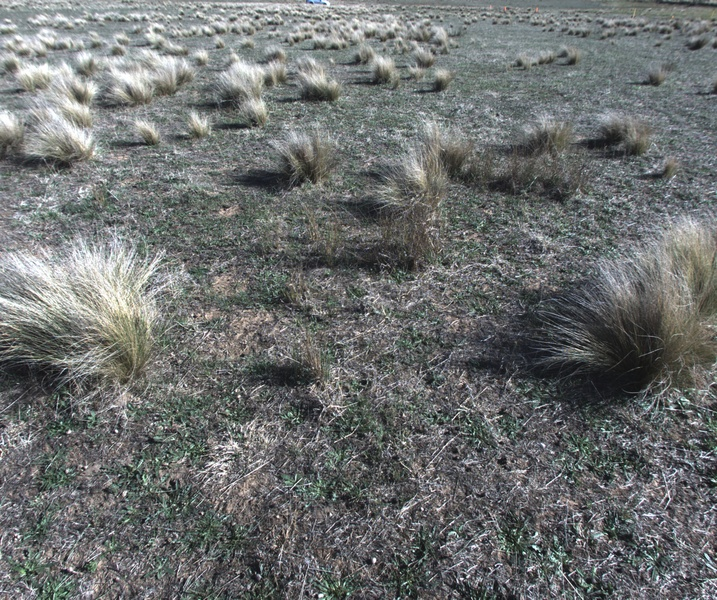st: (1, 238, 177, 373), (584, 227, 717, 374), (28, 116, 91, 164), (385, 157, 444, 208), (275, 136, 327, 188), (595, 114, 645, 159), (112, 67, 156, 104), (222, 56, 262, 96), (14, 65, 54, 96), (297, 76, 342, 101), (156, 57, 187, 90), (368, 57, 398, 88), (242, 99, 273, 129), (179, 107, 210, 135), (134, 121, 162, 149), (659, 161, 678, 195), (431, 64, 454, 91), (63, 102, 90, 123), (74, 49, 92, 79), (414, 46, 436, 67), (76, 78, 97, 100), (355, 41, 372, 66), (268, 61, 285, 85), (193, 46, 212, 67), (261, 42, 284, 59), (404, 61, 423, 81), (151, 33, 172, 51), (538, 49, 559, 65), (106, 44, 123, 60), (646, 70, 662, 86), (239, 36, 256, 51), (212, 36, 223, 53), (569, 53, 582, 67), (519, 57, 532, 70), (115, 35, 127, 48), (562, 44, 572, 56)
